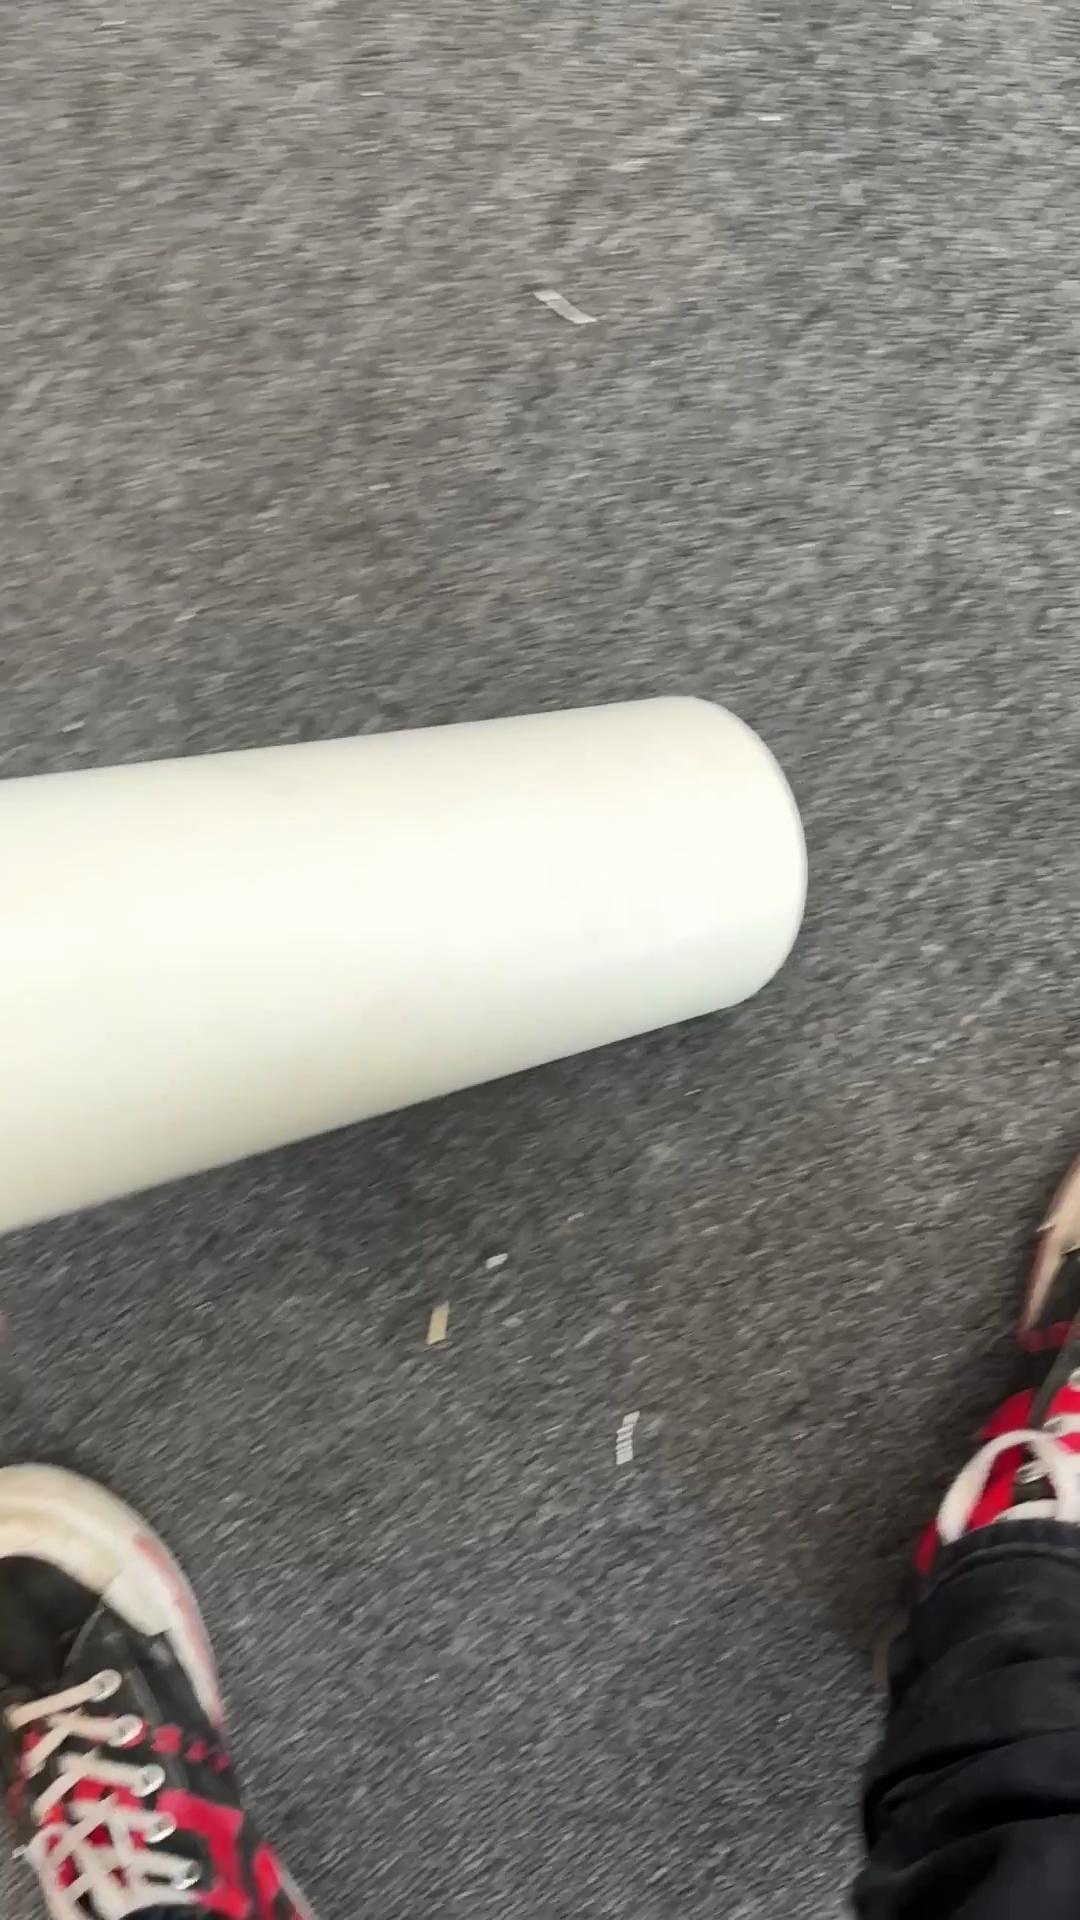CORAL: (3, 690, 808, 1233)
